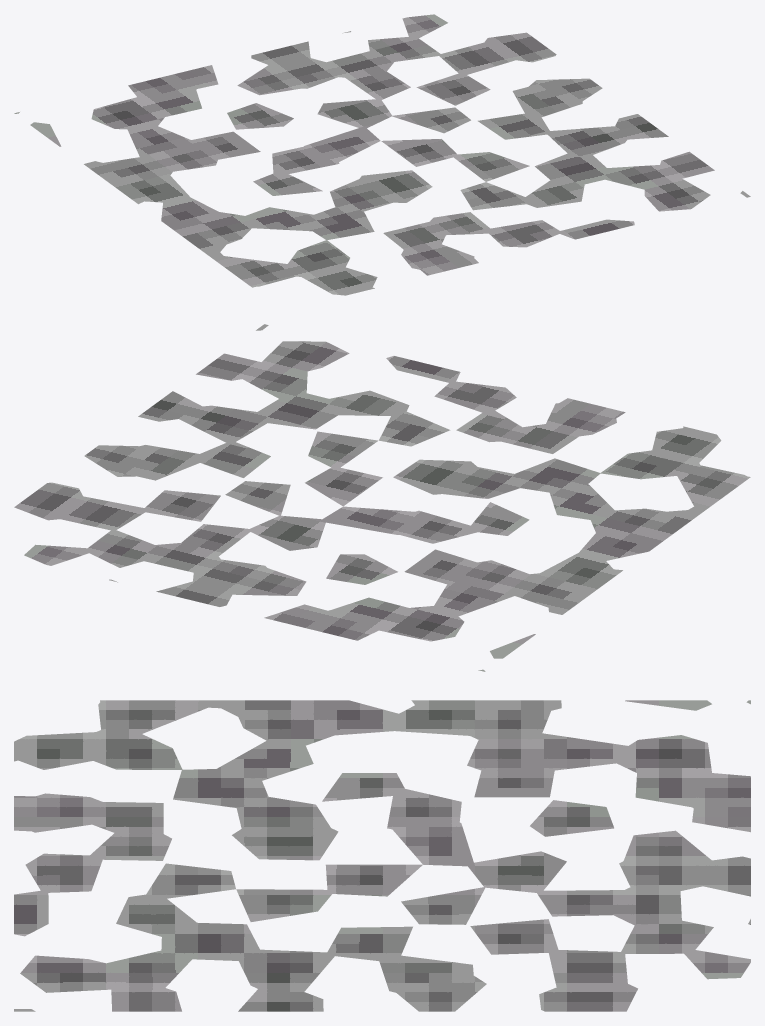
The model's file is Segment_GS_Deco.fbx.
3 views of the same model, one above another, from view 1: azimuth 30°, elevation 25°; view 2: azimuth 150°, elevation 25°; view 3: azimuth 270°, elevation 25° (orthographic). The views are drawn at different scales.
Visible parts, largest first — view 1: Segment_GS_Deco; view 2: Segment_GS_Deco; view 3: Segment_GS_Deco.
Part boxes in pixels (x1,y1,x2,y2): Segment_GS_Deco: (14, 14, 750, 295); Segment_GS_Deco: (14, 324, 750, 671); Segment_GS_Deco: (14, 700, 750, 1011).
Bounding box in the file's own units: 15000 × 0 × 15000.
Materials: 1 (1 with a texture image).
